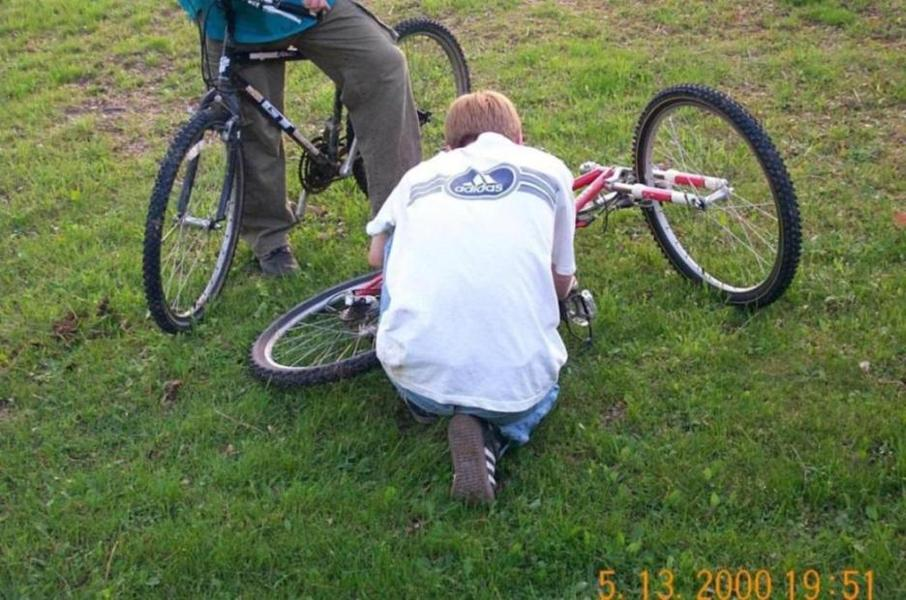person: (365, 91, 582, 514)
